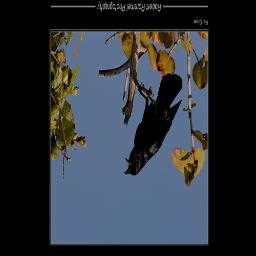Crow: (124, 74, 182, 177)
